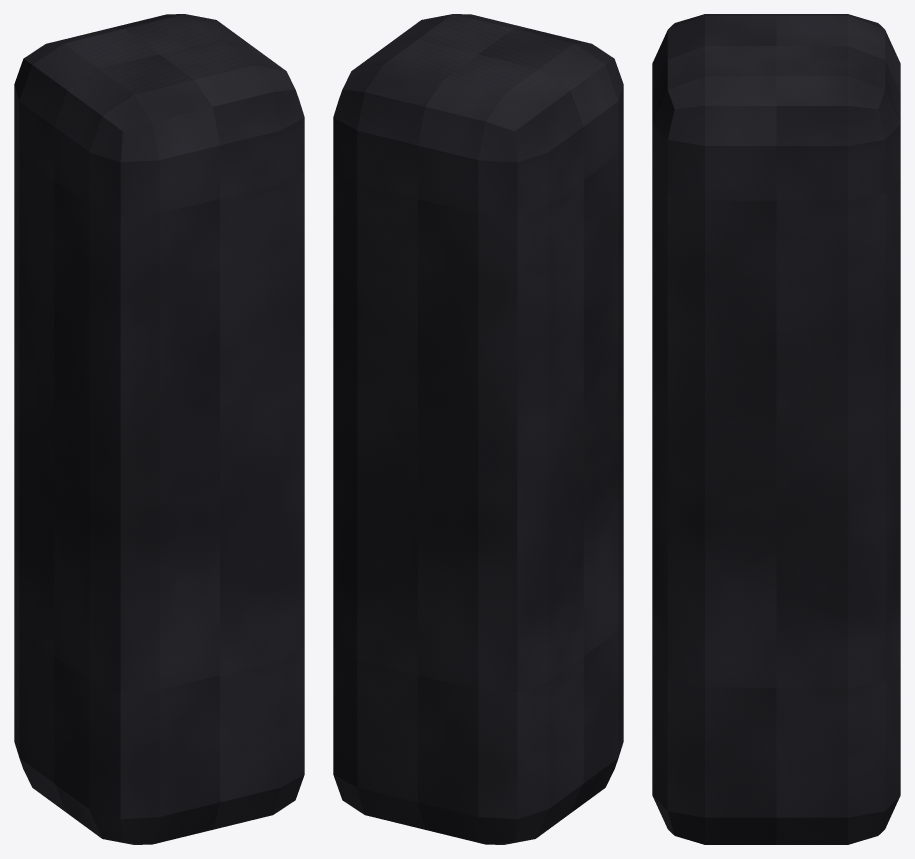
Rendered from Zombie_LegLowerL.obj.
3 views of the same model, side by side, from view 1: azimuth 30°, elevation 25°; view 2: azimuth 150°, elevation 25°; view 3: azimuth 270°, elevation 25° (orthographic). The views are drawn at different scales.
Size of the model in its own units: 0.132 by 0.45 by 0.132.
Materials: 1 (1 with a texture image).
